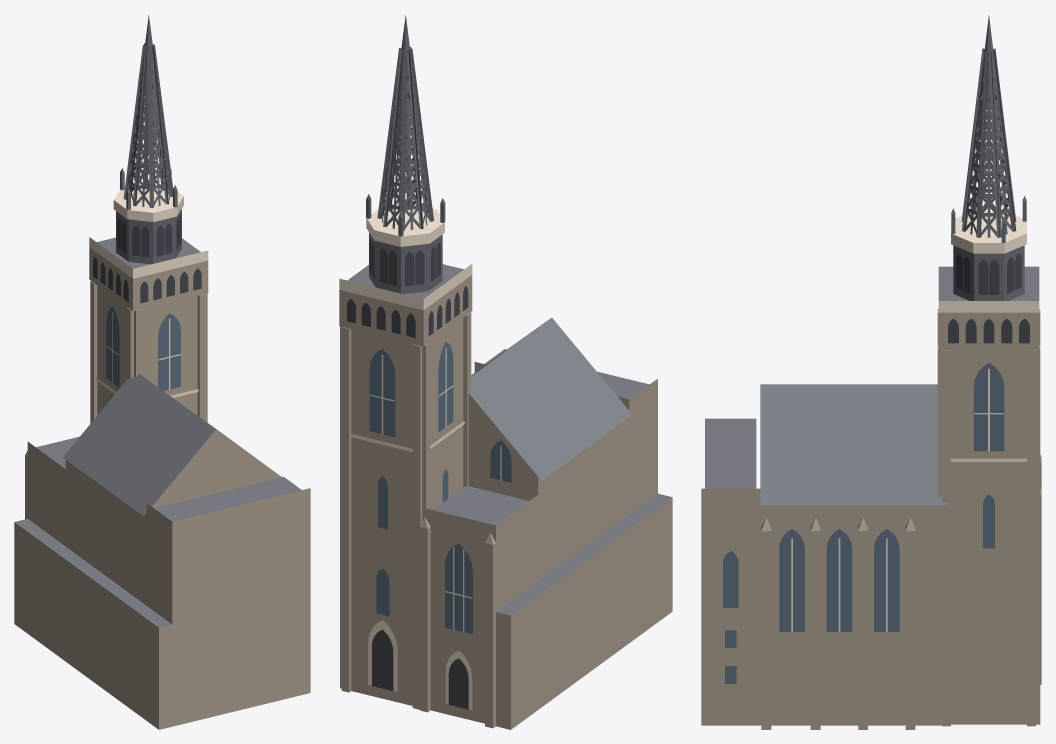
Rendered from pit-smithfield-united-church.glb.
The picture shows the model from 3 angles, left to right: view 1: azimuth 30°, elevation 25°; view 2: azimuth 150°, elevation 25°; view 3: azimuth 270°, elevation 25°; orthographic projection. The views are drawn at different scales.
Parts seen in each view (by area): view 1: Smithfield United Church of Christ; view 2: Smithfield United Church of Christ; view 3: Smithfield United Church of Christ.
Part boxes in pixels (left/top/right/bottom): Smithfield United Church of Christ: left=14, top=14, right=310, bottom=729; Smithfield United Church of Christ: left=339, top=14, right=672, bottom=729; Smithfield United Church of Christ: left=701, top=15, right=1041, bottom=729.
Size of the model in its own units: 21.5 by 77.2 by 34.5.
